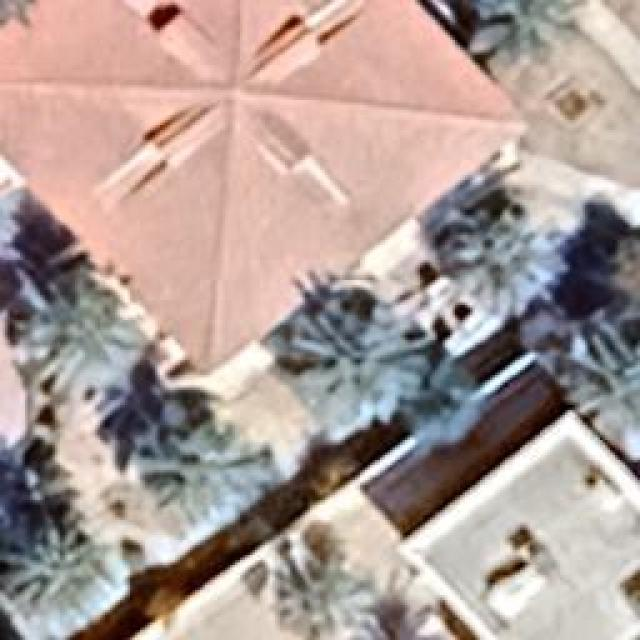PalmTree: (414, 152, 568, 326), (12, 275, 146, 425), (125, 422, 273, 536), (288, 302, 430, 408), (0, 522, 110, 636), (275, 560, 380, 638), (462, 0, 568, 65), (568, 332, 638, 418), (0, 160, 25, 270)
